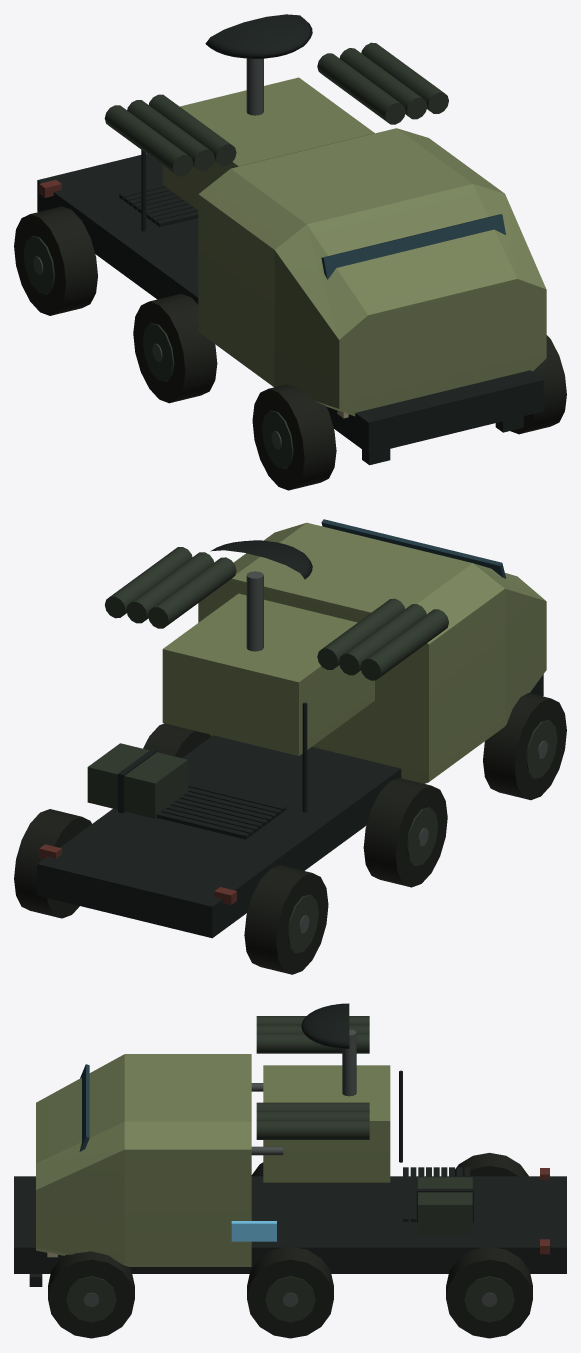
Rendered from spaa.glb.
3 renders of one model, top to bottom at view 1: azimuth 30°, elevation 25°; view 2: azimuth 150°, elevation 25°; view 3: azimuth 270°, elevation 25°, orthographic. The views are drawn at different scales.
Visible parts, largest first — view 1: armor (×2), equipment (×2), glass; view 2: equipment (×2), armor (×2), glass; view 3: equipment (×2), armor (×2), marking, glass.
Part boxes in pixels (x1,y1,x2,y2): armor (×2): [162, 77, 546, 416]; equipment (×2): [14, 14, 566, 490]; glass: [321, 214, 505, 279]; equipment (×2): [14, 540, 566, 974]; armor (×2): [162, 522, 546, 783]; glass: [321, 519, 506, 578]; equipment (×2): [14, 1003, 566, 1338]; armor (×2): [36, 1054, 390, 1266]; marking: [231, 1221, 276, 1241]; glass: [79, 1064, 89, 1151].
Size of the model in its own units: 2.94 by 3.27 by 6.1.
